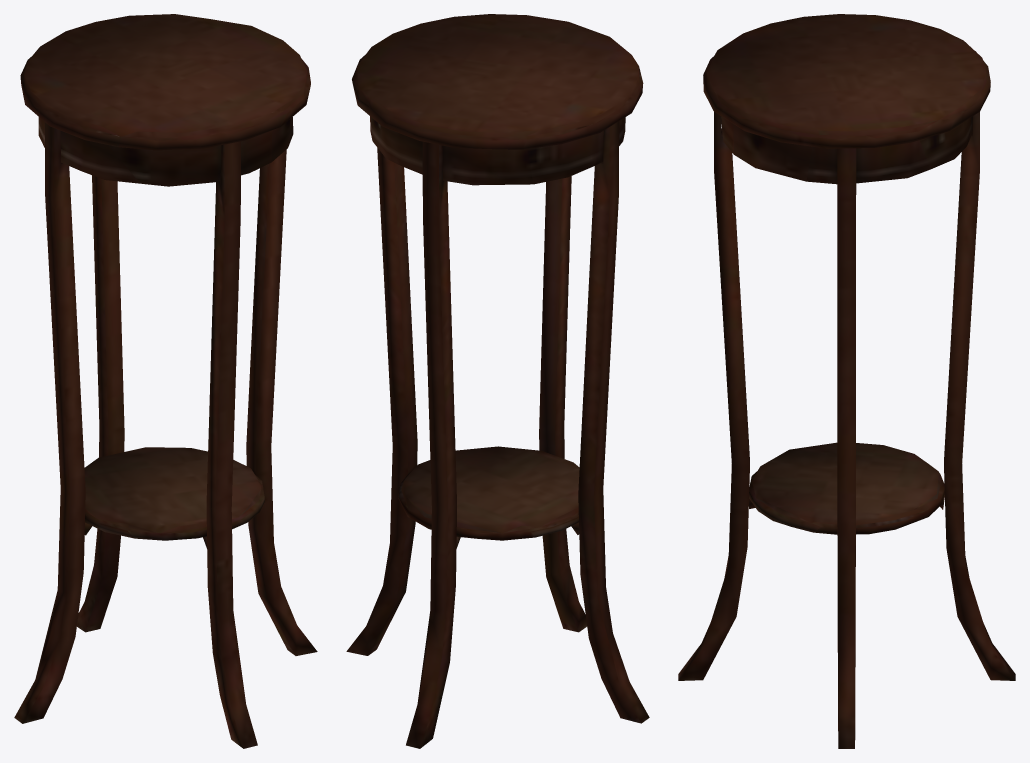
File: bartable.glb
3 views of the same model, side by side, from view 1: azimuth 30°, elevation 25°; view 2: azimuth 150°, elevation 25°; view 3: azimuth 270°, elevation 25° (orthographic).
Parts seen in each view (by area): view 1: lo; view 2: lo; view 3: lo.
Part boxes in pixels (x1,y1,x2,y2): lo: (14, 14, 317, 748); lo: (346, 14, 649, 748); lo: (678, 14, 1015, 748).
Size of the model in its own units: 0.3837 by 0.7599 by 0.3837.
Materials: 1 (1 with a texture image).
